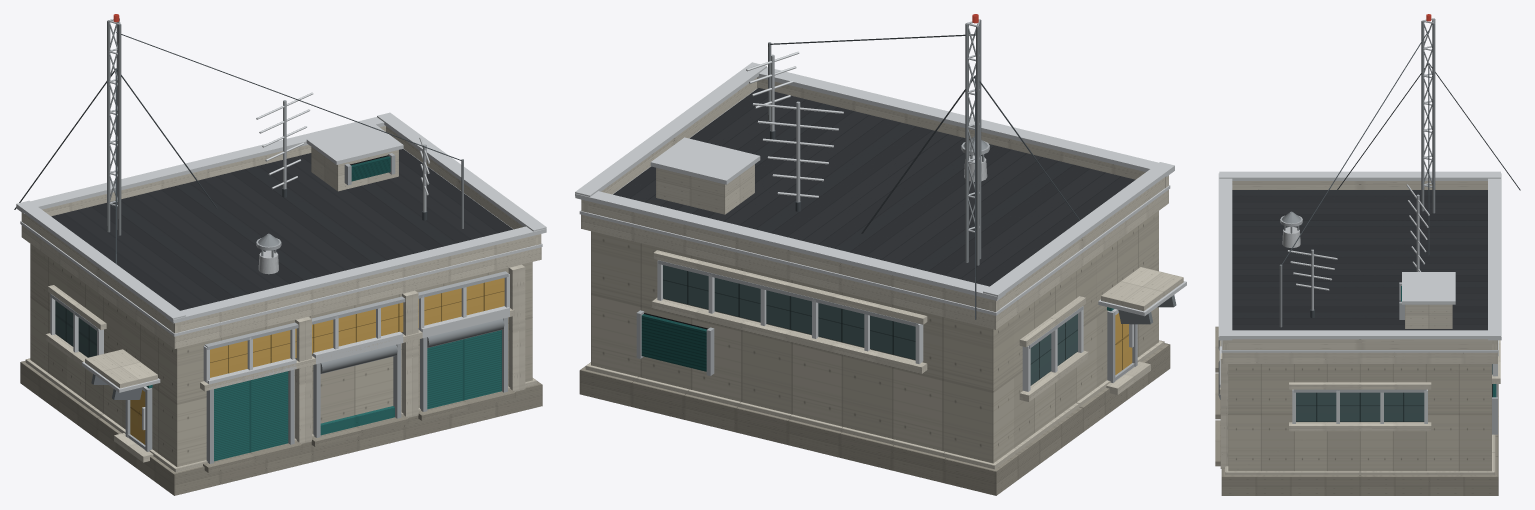
Rendered from fun-6-built.glb.
3 views of the same model, side by side, from view 1: azimuth 30°, elevation 25°; view 2: azimuth 150°, elevation 25°; view 3: azimuth 270°, elevation 25° (orthographic). The views are drawn at different scales.
Size of the model in its own units: 15.98 by 14.39 by 11.57.
Materials: 28 (18 with a texture image).
